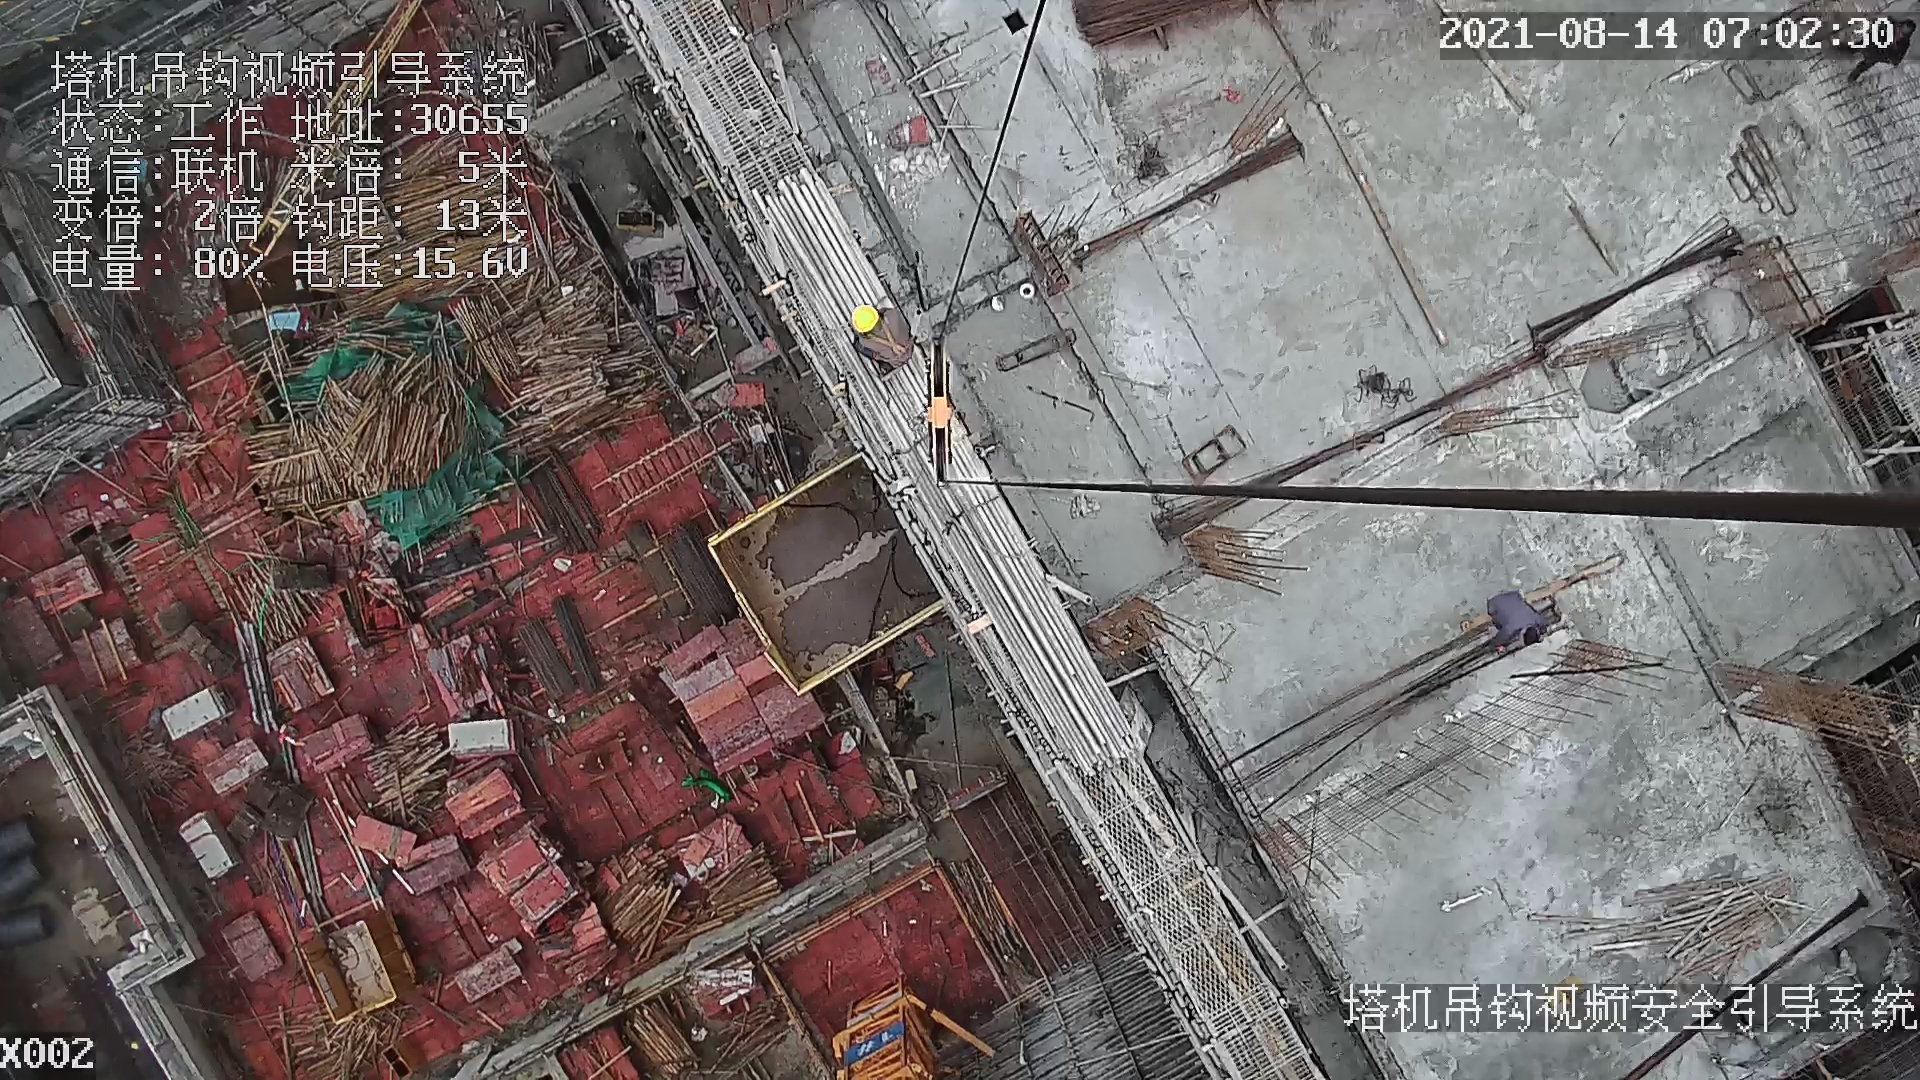helmet: (849, 303, 881, 336)
hook: (918, 335, 967, 495)
person: (1477, 583, 1567, 655), (851, 305, 919, 374)
slogan: (843, 1018, 905, 1065)
